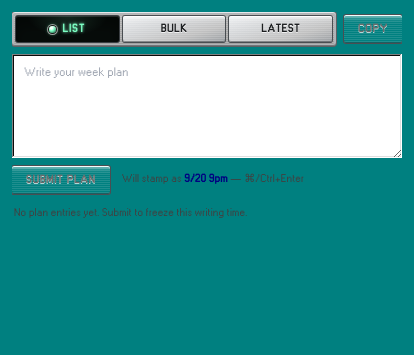
PlanTextLog › switches to bulk copy text and latest-only
Type "first" into the text box with placeholder "Write your week plan" at (207, 106), box [12,54,402,158]
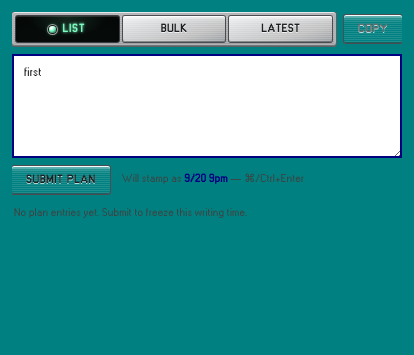
Click the button "Submit plan" at (61, 180), box [12,166,110,194]
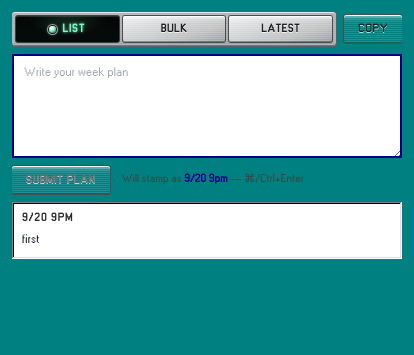
Type "second" into the text box with placeholder "Write your week plan" at (207, 106), box [12,54,402,158]
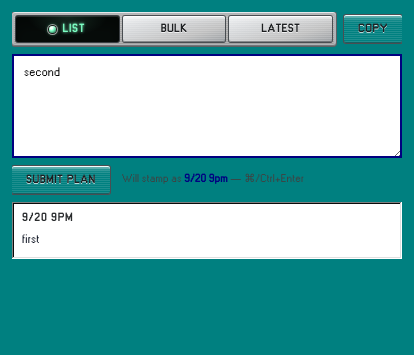
Click the button "Submit plan" at (61, 180), box [12,166,110,194]
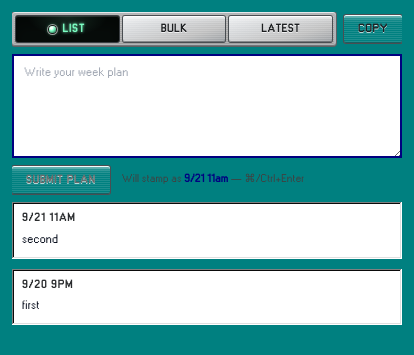
Click the tab "Bulk" at (174, 29), box [123,16,225,42]
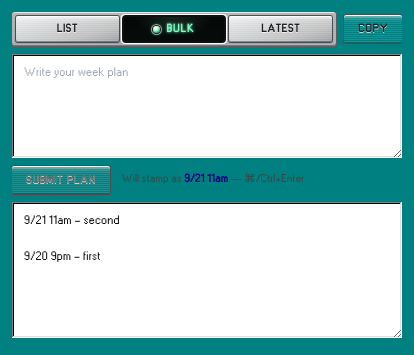
Click the tab "Latest" at (281, 29), box [229,16,332,42]
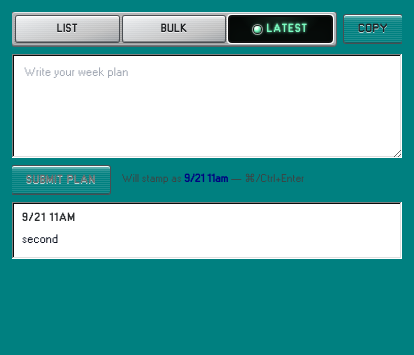
Expected: the text "first" is not shown
Now the text "second" is shown, box [22,234,58,244]
